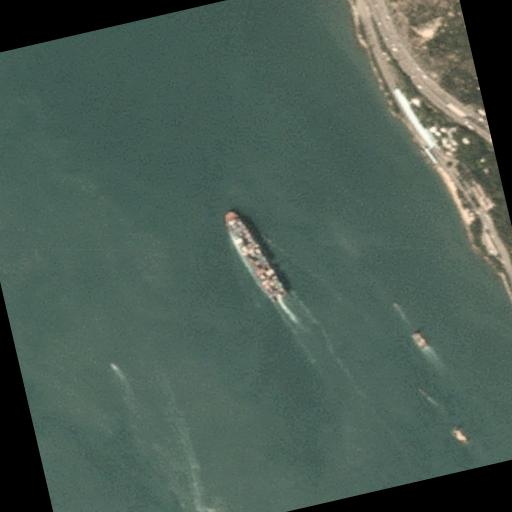ship: (223, 202, 289, 310), (408, 329, 432, 355), (416, 386, 428, 400), (390, 300, 400, 313), (108, 362, 118, 374)
